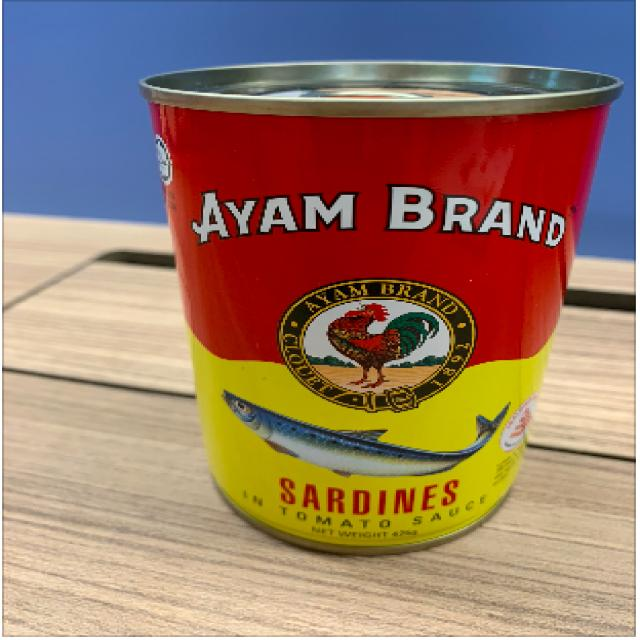object_name: (144, 60, 609, 546)
